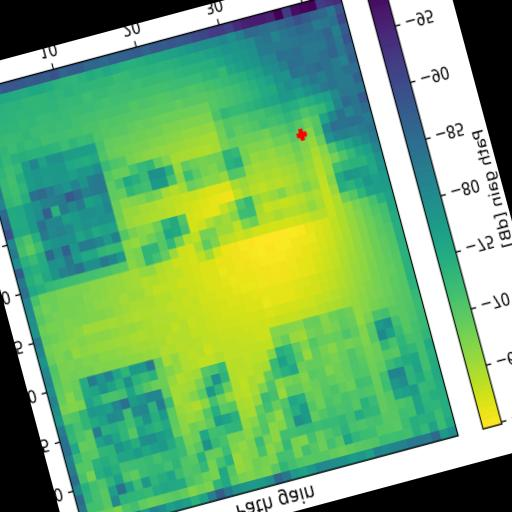Concrete: (268, 306, 388, 457)
Glass: (78, 360, 188, 508)
Metal: (208, 84, 326, 228)
Wood: (21, 142, 127, 280)
